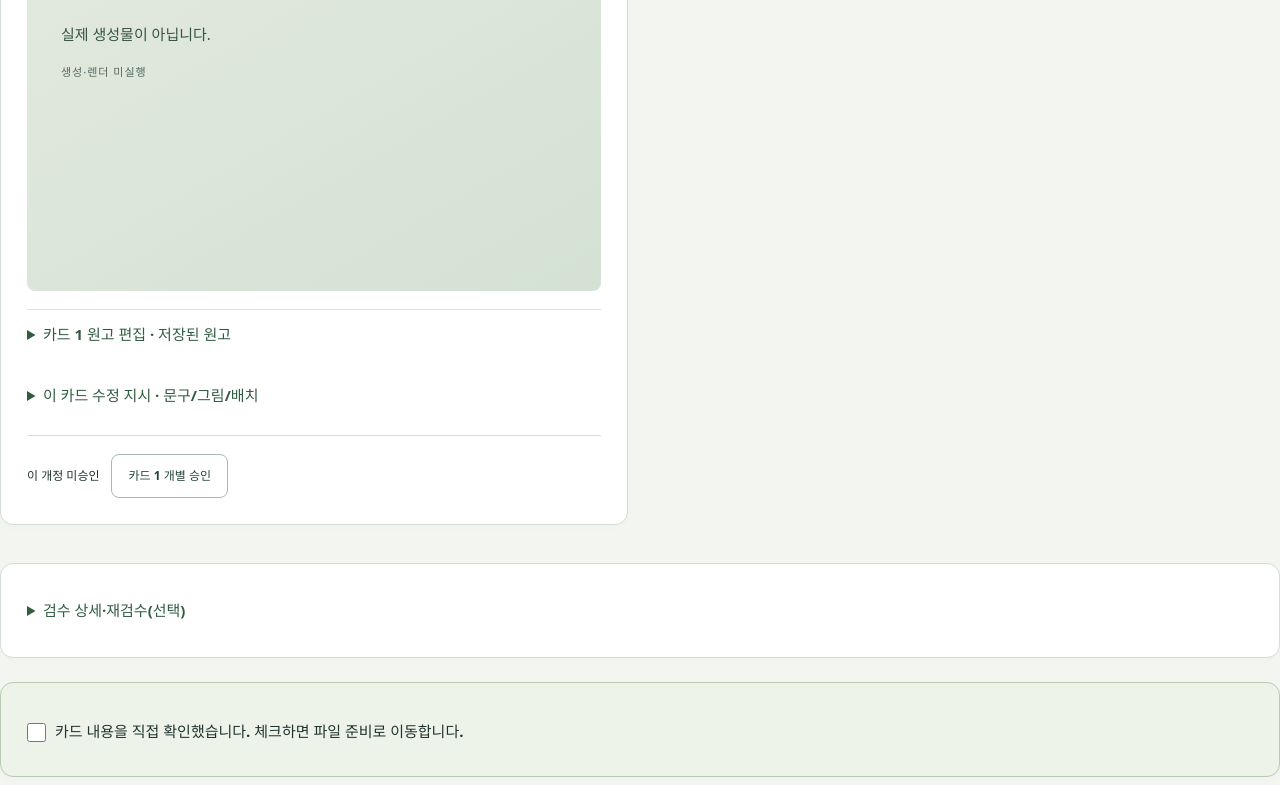
비교 표의 정규화 값은 수집 모델 정리이며 독립 확정이 아님을 곁에 표시한다
(page scrolled)
Click the heading "검수 상세·재검수(선택)". click: (114, 610)
box: 43,600 -> 185,620
(page scrolled)
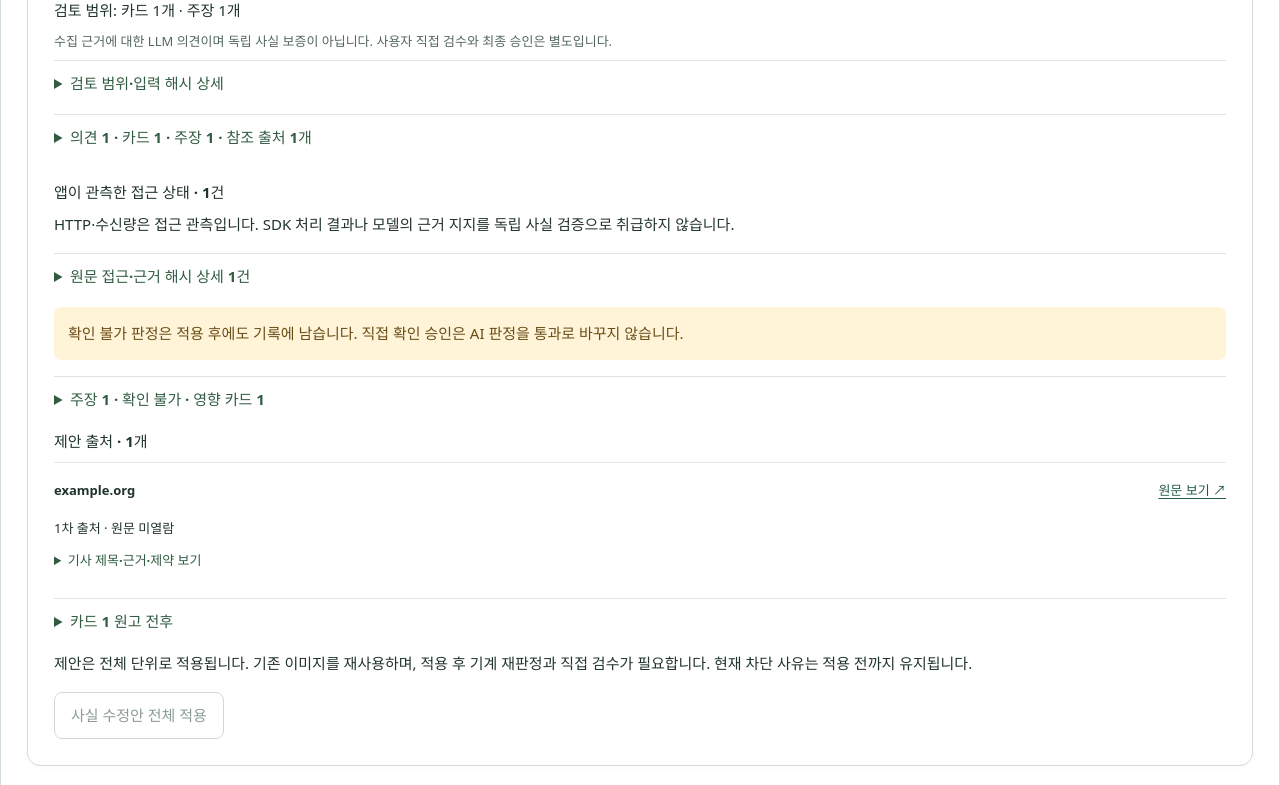
Click the heading "주장 1 · 확인 불가 · 영향 카드 1". click: (167, 399)
box: 70,389 -> 265,409
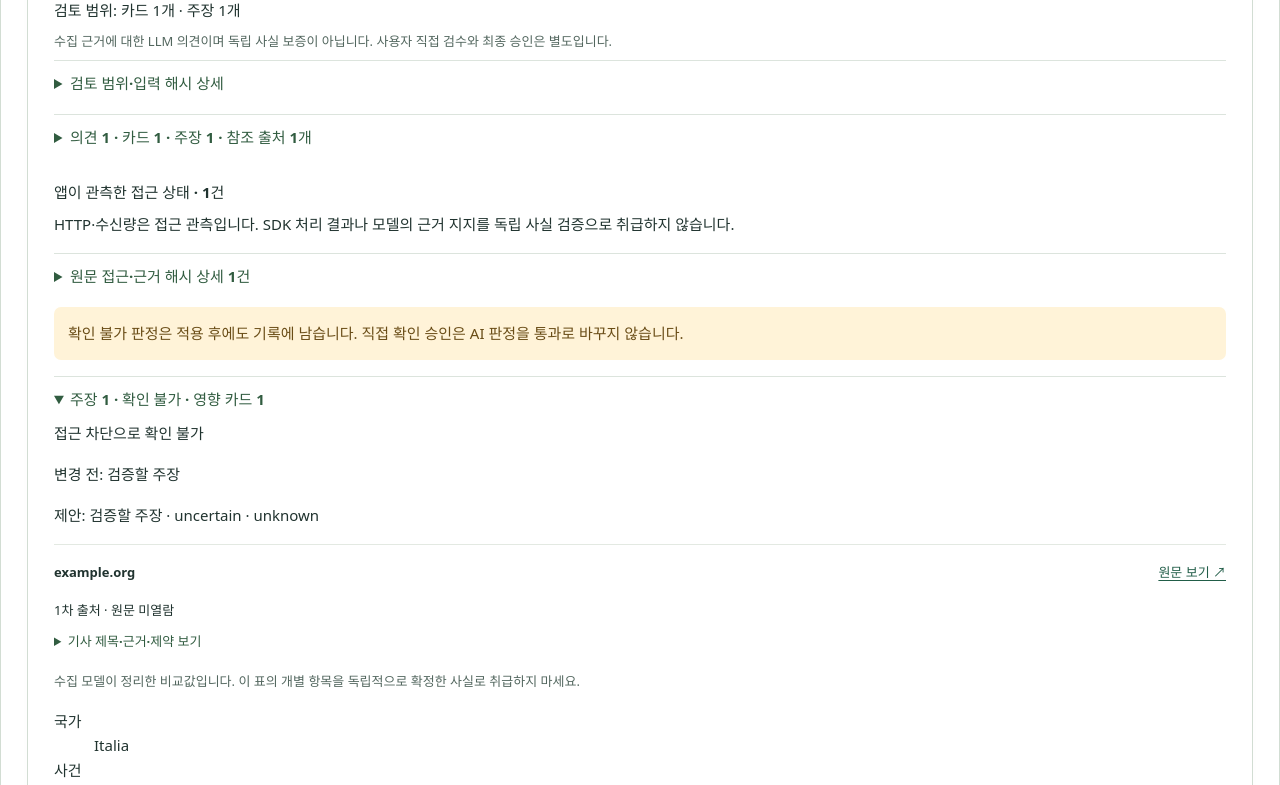
Expected: the text "수집 모델이 정리한 비교값입니다. 이 표의 개별 항목을 독립적으로 확정한 사실로 취급하지 마세요." is shown, 54,672 -> 580,690
Expected: the text "Italia" is shown, 94,735 -> 129,755
